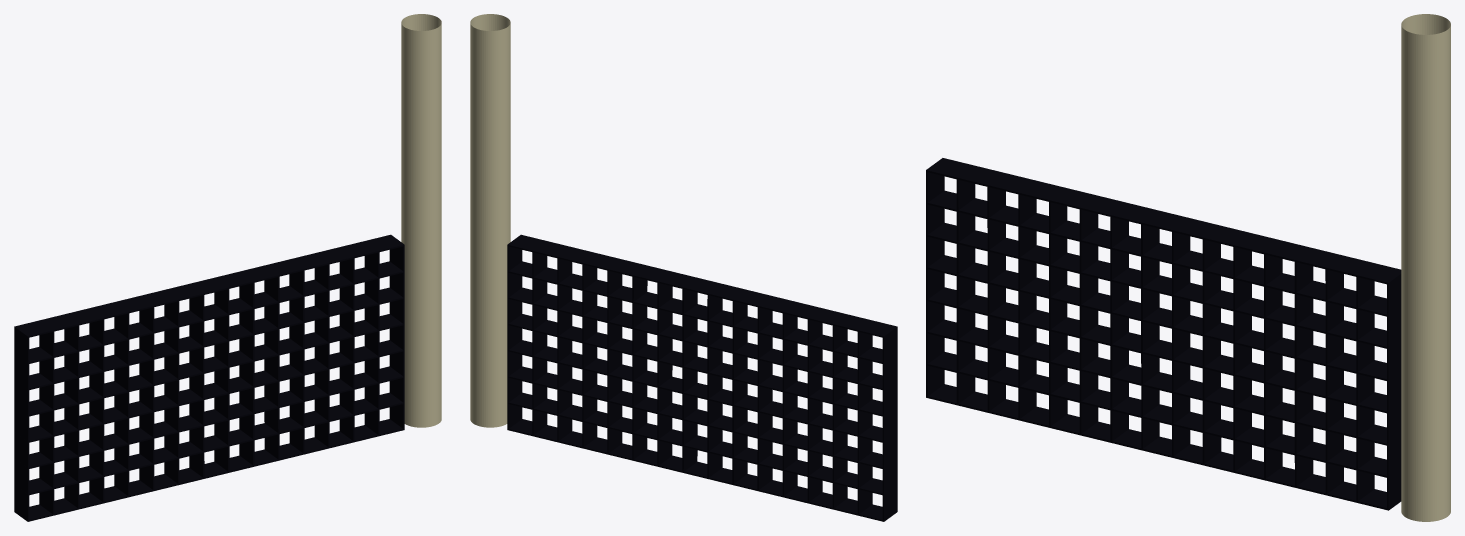
Rendered from Estante2.obj.
3 views of the same model, side by side, from view 1: azimuth 30°, elevation 25°; view 2: azimuth 150°, elevation 25°; view 3: azimuth 330°, elevation 25° (orthographic). The views are drawn at different scales.
Visible parts, largest first — view 1: Mesh.021_Mesh.033_Mesh.119_Mes, Mesh.031_Mesh.019_Mesh.134_Mes, Mesh.002_Mesh_Mesh.115_Mesh.44, Mesh.015_Mesh.003_Mesh.112_Mes, Mesh.017_Mesh.027_Mesh.125_Mes, Mesh.018_Mesh.005_Mesh.113_Mes, Mesh.036_Mesh.001_Mesh.114_Mes, Mesh.004_Mesh.037_Mesh.116_Mes, Mesh.041_Mesh.041_Mesh.131_Mes, Mesh_Mesh.009_Mesh.120_Mes, Mesh.009_Mesh.039_Mesh.127_Mes, Mesh.003_Mesh.035_Mesh.130_Mes (+13 smaller); view 2: Mesh.021_Mesh.033_Mesh.119_Mes, Mesh.031_Mesh.019_Mesh.134_Mes, Mesh.018_Mesh.005_Mesh.113_Mes, Mesh.015_Mesh.003_Mesh.112_Mes, Mesh.002_Mesh_Mesh.115_Mesh.44, Mesh.017_Mesh.027_Mesh.125_Mes, Mesh.004_Mesh.037_Mesh.116_Mes, Mesh.041_Mesh.041_Mesh.131_Mes, Mesh.036_Mesh.001_Mesh.114_Mes, Mesh_Mesh.009_Mesh.120_Mes, Mesh.003_Mesh.035_Mesh.130_Mes, Mesh.009_Mesh.039_Mesh.127_Mes (+13 smaller); view 3: Mesh.021_Mesh.033_Mesh.119_Mes, Mesh.031_Mesh.019_Mesh.134_Mes, Mesh.017_Mesh.027_Mesh.125_Mes, Mesh.015_Mesh.003_Mesh.112_Mes, Mesh.041_Mesh.041_Mesh.131_Mes, Mesh.002_Mesh_Mesh.115_Mesh.44, Mesh.036_Mesh.001_Mesh.114_Mes, Mesh.004_Mesh.037_Mesh.116_Mes, Mesh.018_Mesh.005_Mesh.113_Mes, Mesh.012_Mesh.018_Mesh.118_Mes, Mesh.009_Mesh.039_Mesh.127_Mes, Mesh.020_Mesh.024_Mesh.126_Mes (+13 smaller).
Part boxes in pixels (x1,y1,x2,y2): Mesh.021_Mesh.033_Mesh.119_Mes: (401,14,441,427); Mesh.031_Mesh.019_Mesh.134_Mes: (14,234,404,337); Mesh.002_Mesh_Mesh.115_Mesh.44: (14,392,403,495); Mesh.015_Mesh.003_Mesh.112_Mes: (14,419,403,521); Mesh.017_Mesh.027_Mesh.125_Mes: (14,366,404,469); Mesh.018_Mesh.005_Mesh.113_Mes: (14,340,403,442); Mesh.036_Mesh.001_Mesh.114_Mes: (28,287,404,390); Mesh.004_Mesh.037_Mesh.116_Mes: (28,314,404,416); Mesh.041_Mesh.041_Mesh.131_Mes: (28,261,403,364); Mesh_Mesh.009_Mesh.120_Mes: (14,328,29,520); Mesh.009_Mesh.039_Mesh.127_Mes: (39,331,54,514); Mesh.003_Mesh.035_Mesh.130_Mes: (64,325,79,508); Mesh.021_Mesh.033_Mesh.119_Mes: (470,14,510,427); Mesh.031_Mesh.019_Mesh.134_Mes: (508,234,897,337); Mesh.018_Mesh.005_Mesh.113_Mes: (508,340,897,442); Mesh.015_Mesh.003_Mesh.112_Mes: (508,419,897,521); Mesh.002_Mesh_Mesh.115_Mesh.44: (508,392,897,495); Mesh.017_Mesh.027_Mesh.125_Mes: (508,366,897,468); Mesh.004_Mesh.037_Mesh.116_Mes: (508,314,882,416); Mesh.041_Mesh.041_Mesh.131_Mes: (508,261,882,363); Mesh.036_Mesh.001_Mesh.114_Mes: (508,287,882,389); Mesh_Mesh.009_Mesh.120_Mes: (882,328,897,521); Mesh.003_Mesh.035_Mesh.130_Mes: (832,324,847,509); Mesh.009_Mesh.039_Mesh.127_Mes: (857,330,872,515); Mesh.021_Mesh.033_Mesh.119_Mes: (1401,14,1450,521); Mesh.031_Mesh.019_Mesh.134_Mes: (926,158,1401,284); Mesh.017_Mesh.027_Mesh.125_Mes: (926,319,1387,445); Mesh.015_Mesh.003_Mesh.112_Mes: (926,384,1387,510); Mesh.041_Mesh.041_Mesh.131_Mes: (926,190,1387,316); Mesh.002_Mesh_Mesh.115_Mesh.44: (926,351,1387,477); Mesh.036_Mesh.001_Mesh.114_Mes: (926,222,1388,348); Mesh.004_Mesh.037_Mesh.116_Mes: (926,255,1387,381); Mesh.018_Mesh.005_Mesh.113_Mes: (926,287,1387,413); Mesh.012_Mesh.018_Mesh.118_Mes: (1387,274,1401,510); Mesh.009_Mesh.039_Mesh.127_Mes: (956,179,975,403); Mesh.020_Mesh.024_Mesh.126_Mes: (1079,209,1098,433).
Bounding box in the file's own units: 9.92 × 8.99 × 0.8303.
